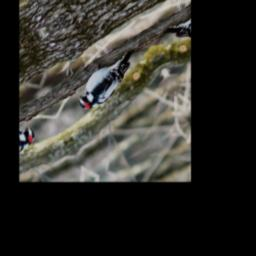Woodpecker: (68, 44, 150, 116)
